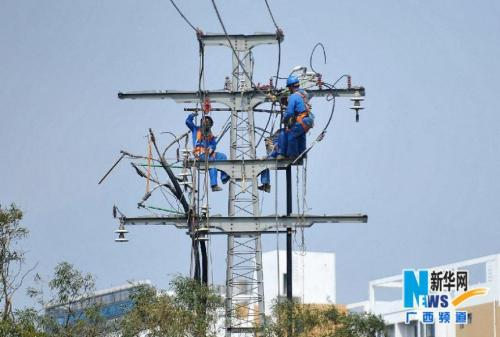helmet: (286, 73, 303, 94)
